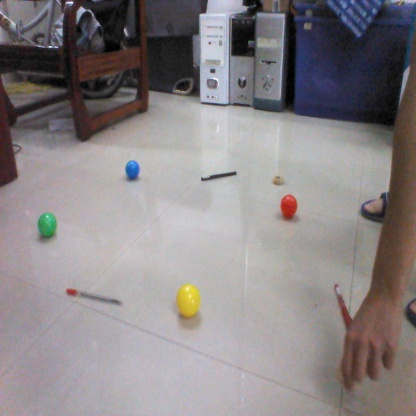ball: (174, 283, 201, 318), (32, 210, 62, 240), (279, 194, 302, 215), (125, 159, 140, 179)
chess: (273, 172, 288, 184)
pen: (65, 288, 123, 305), (336, 287, 353, 327), (200, 170, 238, 181)
